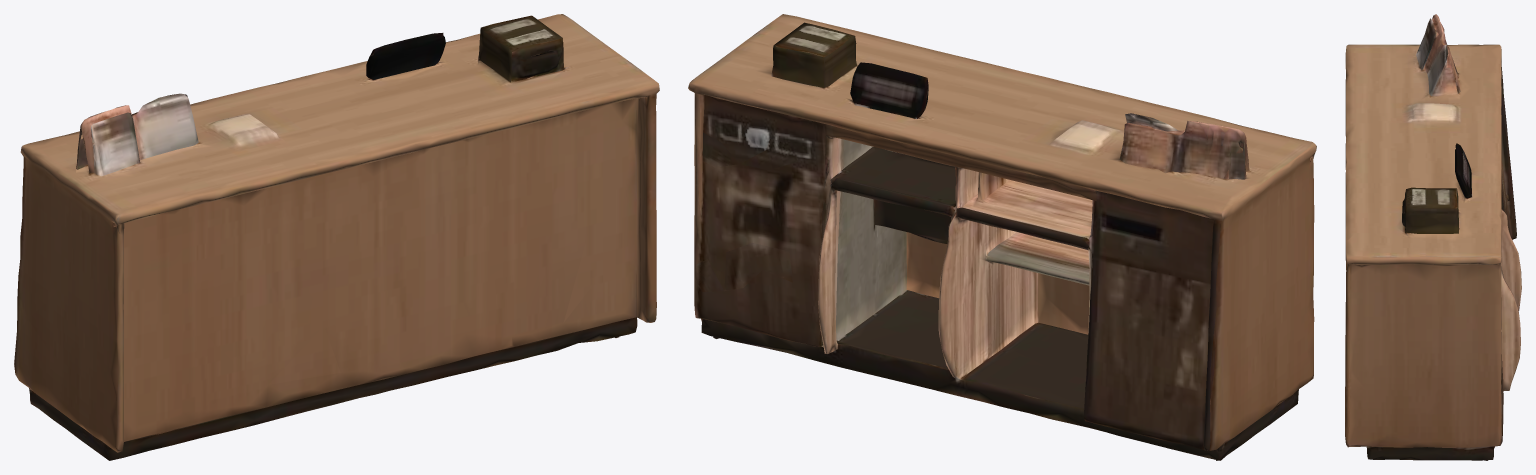
The model's file is meson_recepcion.glb.
3 renders of one model, left to right at view 1: azimuth 30°, elevation 25°; view 2: azimuth 150°, elevation 25°; view 3: azimuth 270°, elevation 25°, orthographic. The views are drawn at different scales.
Visible parts, largest first — view 1: geometry_0; view 2: geometry_0; view 3: geometry_0.
Boxes of the visible parts, x1=… form: geometry_0: x1=14, y1=14, x2=659, y2=460; geometry_0: x1=688, y1=14, x2=1316, y2=460; geometry_0: x1=1345, y1=14, x2=1521, y2=460.
Bounding box in the file's own units: 2 × 1.1 × 0.7.
1 material, 1 textured.
